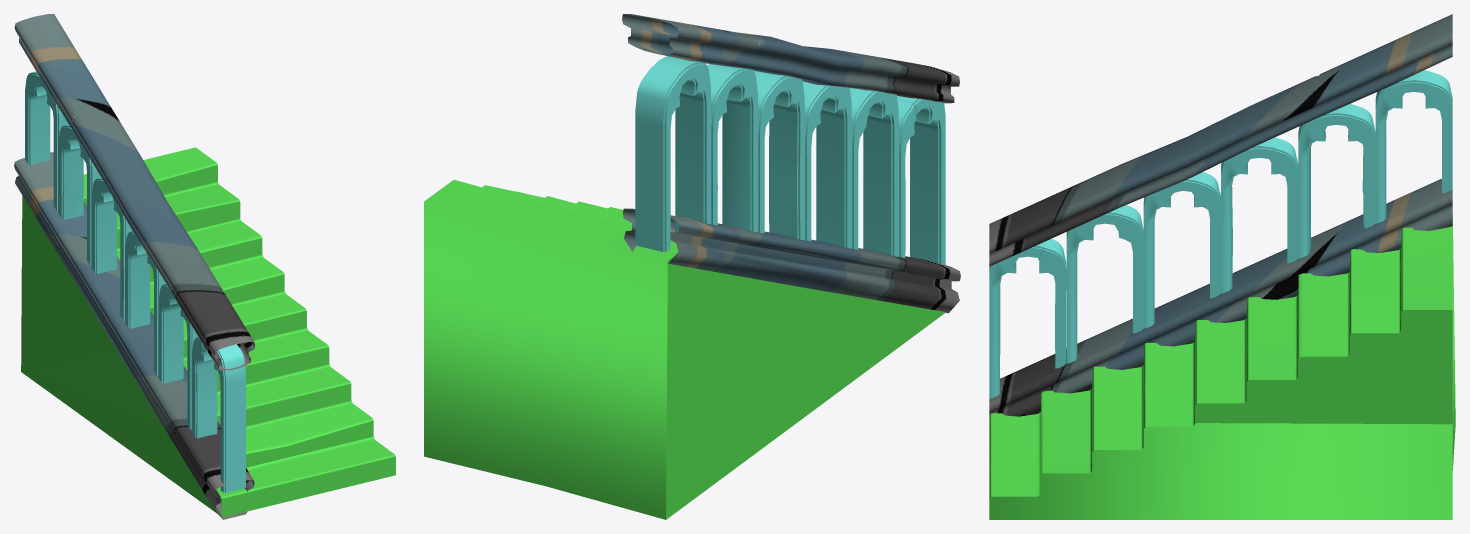
File: SM_Stair1mEnd.fbx
3 renders of one model, left to right at view 1: azimuth 30°, elevation 25°; view 2: azimuth 150°, elevation 25°; view 3: azimuth 270°, elevation 25°, orthographic. The views are drawn at different scales.
Visible parts, largest first — view 1: SM_Stair1mEnd; view 2: SM_Stair1mEnd; view 3: SM_Stair1mEnd.
Boxes of the visible parts, x1,y1,x2,y2 form: SM_Stair1mEnd: (14,14,395,519); SM_Stair1mEnd: (424,14,960,519); SM_Stair1mEnd: (989,14,1455,519).
Size of the model in its own units: 1.05 by 1.95 by 2.01.
